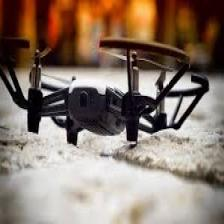drone: (22, 39, 194, 142)
